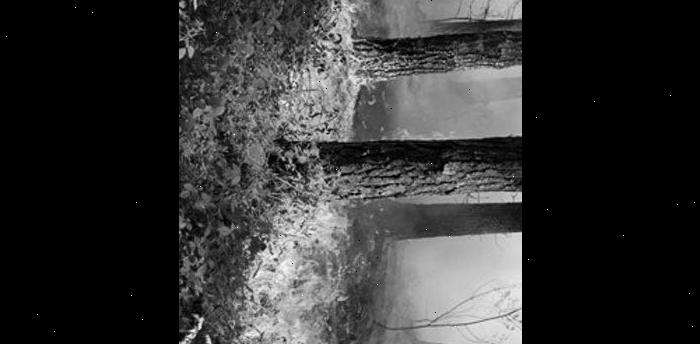fire: (233, 0, 386, 344)
